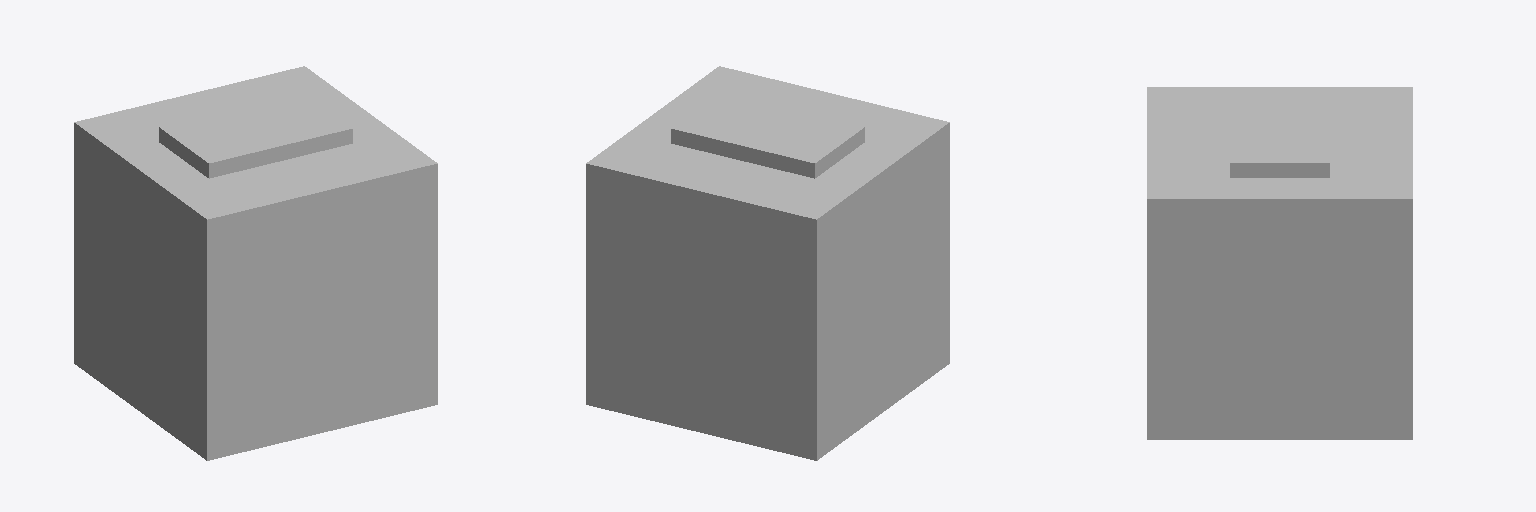
File: no_melterns_no_tools_sand_cast_full.obj
3 views of the same model, side by side, from view 1: azimuth 30°, elevation 25°; view 2: azimuth 150°, elevation 25°; view 3: azimuth 270°, elevation 25° (orthographic).
Visible parts, largest first — view 1: cube.001, cube, cube.002, cube.005, cube.004; view 2: cube, cube.001, cube.002, cube.005, cube.004; view 3: cube, cube.001, cube.004, cube.005, cube.002.
Boxes of the visible parts, <box> form: cube.001: <box>166,133,437,460</box>; cube: <box>74,66,345,393</box>; cube.002: <box>116,142,208,430</box>; cube.005: <box>159,92,352,178</box>; cube.004: <box>319,97,395,142</box>; cube: <box>586,133,857,460</box>; cube.001: <box>678,66,949,393</box>; cube.002: <box>815,142,907,430</box>; cube.005: <box>671,92,864,178</box>; cube.004: <box>628,97,704,142</box>; cube: <box>1330,87,1412,439</box>; cube.001: <box>1147,87,1229,439</box>; cube.004: <box>1230,178,1329,439</box>; cube.005: <box>1230,93,1329,177</box>; cube.002: <box>1230,87,1329,92</box>.
Bounding box in the file's own units: 1 × 1.06 × 1.